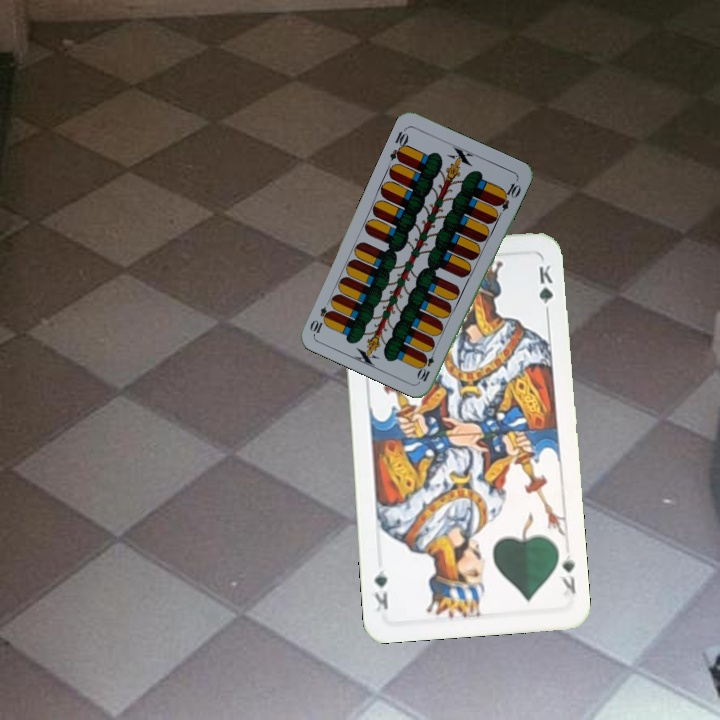E10: (386, 124, 411, 164), (414, 344, 438, 384)
GK: (556, 551, 578, 597)
